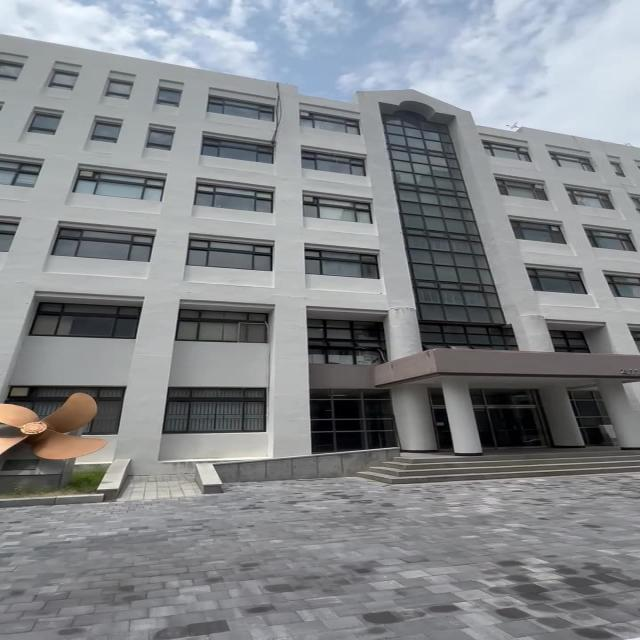building: (12, 42, 638, 469)
